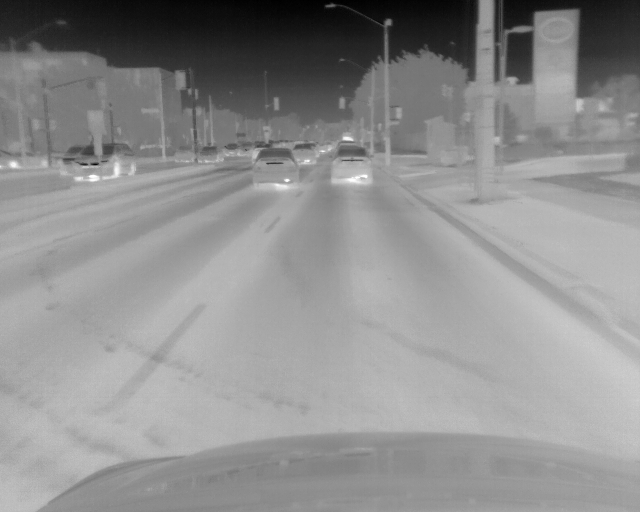car: (73, 144, 139, 179), (250, 148, 299, 189), (329, 145, 373, 187), (57, 144, 80, 176), (291, 144, 316, 166), (196, 146, 221, 165), (174, 145, 194, 163), (237, 141, 252, 158), (222, 142, 237, 158), (314, 141, 332, 154)
